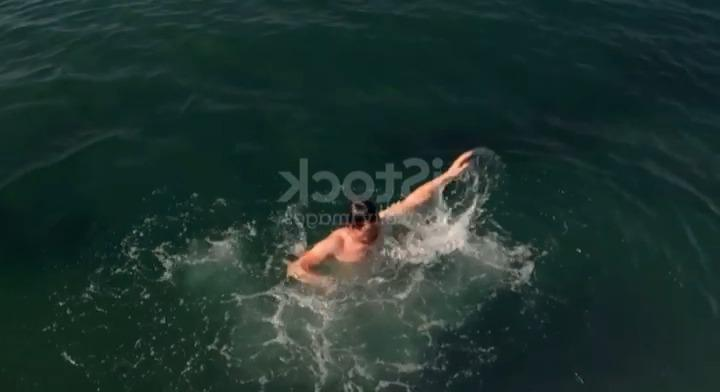Drowning: (243, 112, 537, 327)
